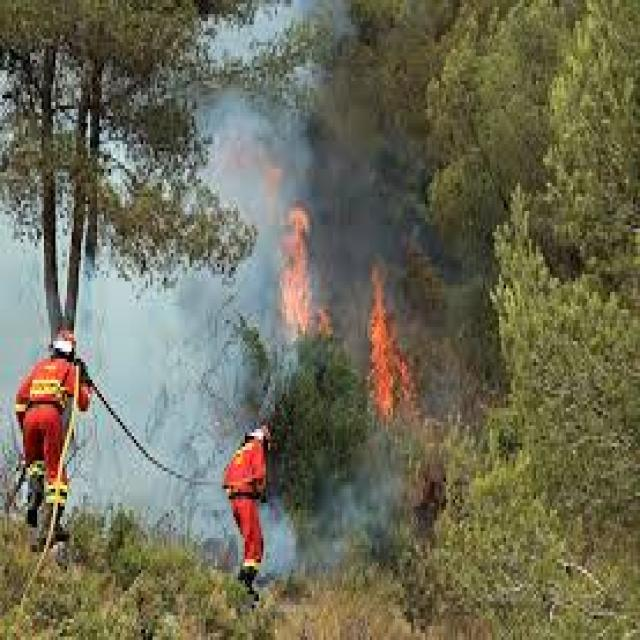Fire: (240, 158, 342, 352), (358, 262, 418, 440)
Smoke: (102, 2, 358, 513), (278, 456, 403, 578)
